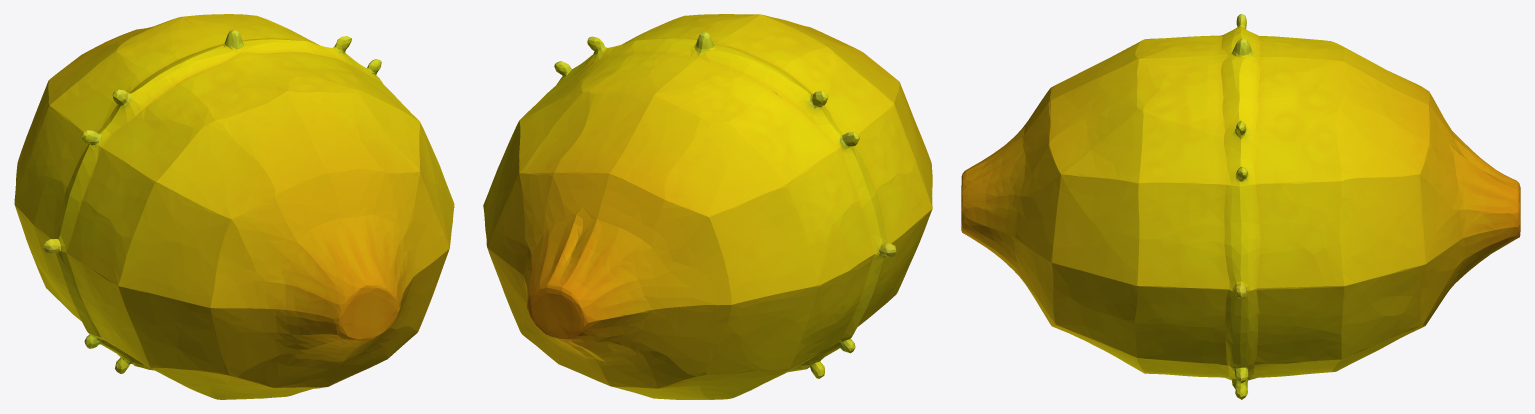
File: lemon.glb
The picture shows the model from 3 angles, left to right: view 1: azimuth 30°, elevation 25°; view 2: azimuth 150°, elevation 25°; view 3: azimuth 270°, elevation 25°; orthographic projection. The views are drawn at different scales.
Visible parts, largest first — view 1: world; view 2: world; view 3: world.
Part boxes in pixels (x1=…): world: x1=14, y1=14, x2=454, y2=399; world: x1=483, y1=14, x2=932, y2=399; world: x1=961, y1=14, x2=1520, y2=399.
Bounding box in the file's own units: 0.7533 × 0.6645 × 0.9985.
Materials: 1 (1 with a texture image).
